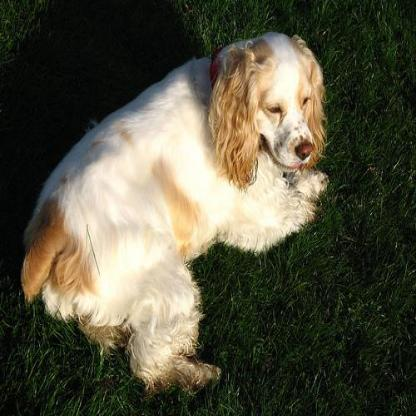cocker_spaniel: (14, 21, 330, 399)
